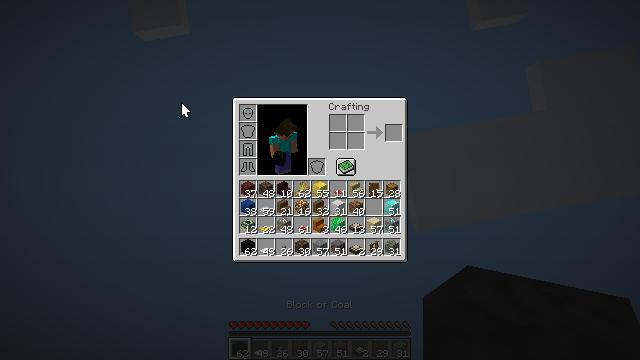cursor: (181, 102, 191, 118)
